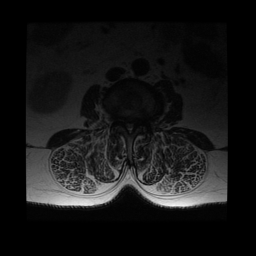CCS_severe_stenosis: (127, 116, 132, 136)
LFS_severe_stenosis: (138, 115, 143, 130)
LLS_severe_stenosis: (133, 117, 138, 131)
RFS_severe_stenosis: (116, 113, 121, 130)
RLS_severe_stenosis: (121, 116, 127, 130)
